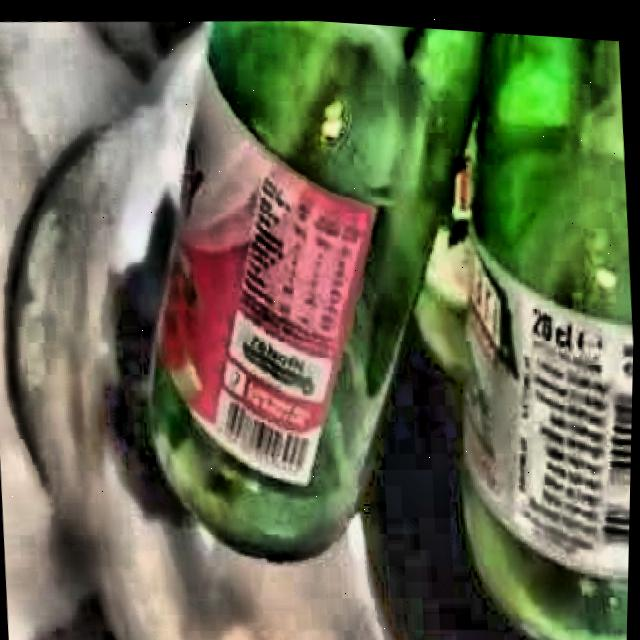glass: (153, 16, 635, 640)
